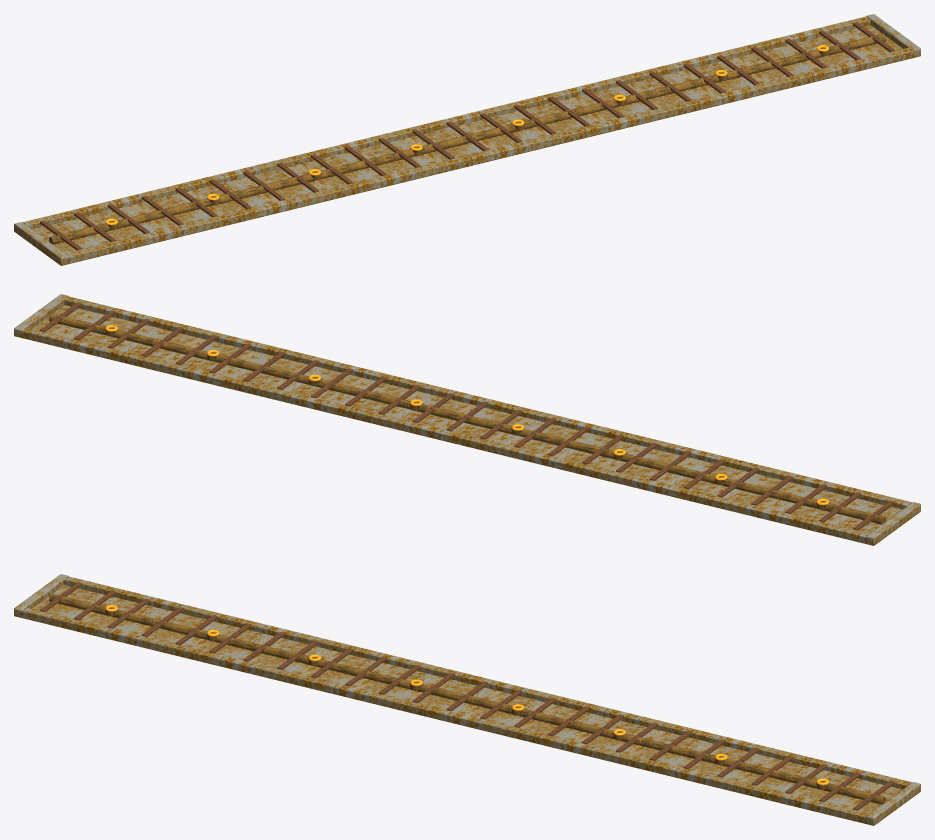
Rendered from fire_trap_burner.glb.
3 renders of one model, top to bottom at view 1: azimuth 30°, elevation 25°; view 2: azimuth 150°, elevation 25°; view 3: azimuth 330°, elevation 25°, orthographic.
Visible parts, largest first — view 1: FireTrapBurner; view 2: FireTrapBurner; view 3: FireTrapBurner.
Boxes of the visible parts, box(x1,y1,x2,y2) form: FireTrapBurner: box(14, 14, 920, 265); FireTrapBurner: box(14, 294, 920, 545); FireTrapBurner: box(14, 574, 920, 825).
Bounding box in the file's own units: 6.3 × 0.0706 × 0.6.
4 materials, 3 textured.
